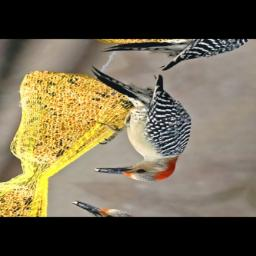Woodpecker: (22, 61, 247, 195)
